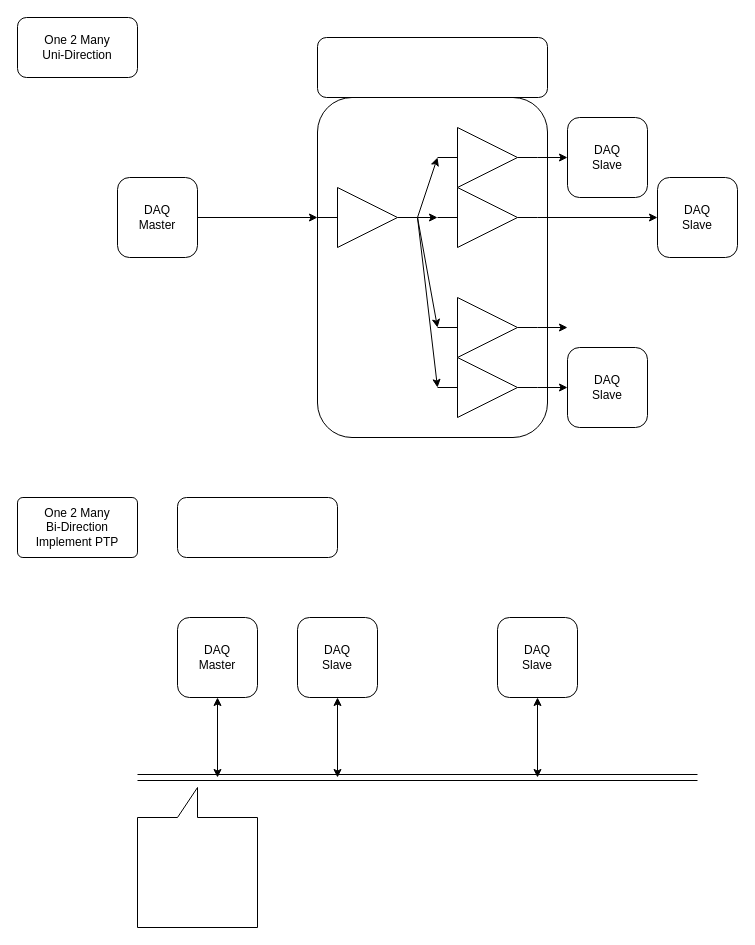
Some shapes in this 755 by 945 pixel diagram are drawn without their labels. Each missing label, with the centre of its shape:
ADN4670 LVDS Clock Distribution: the point at 432,67
Precision Time Protocol ( PTP ): the point at 257,527
RS485 or Ethernet: the point at 197,857
